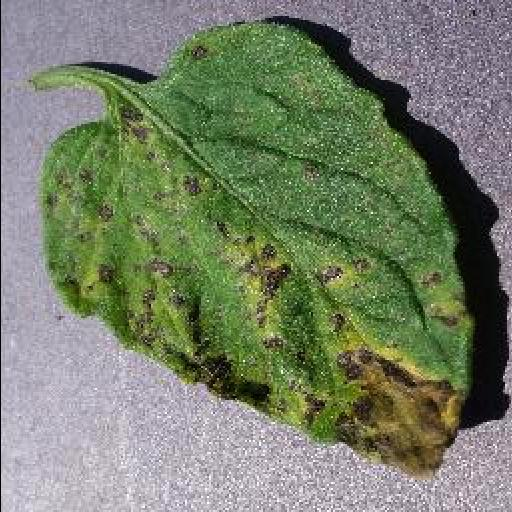disease_tomato: (40, 22, 472, 472)
